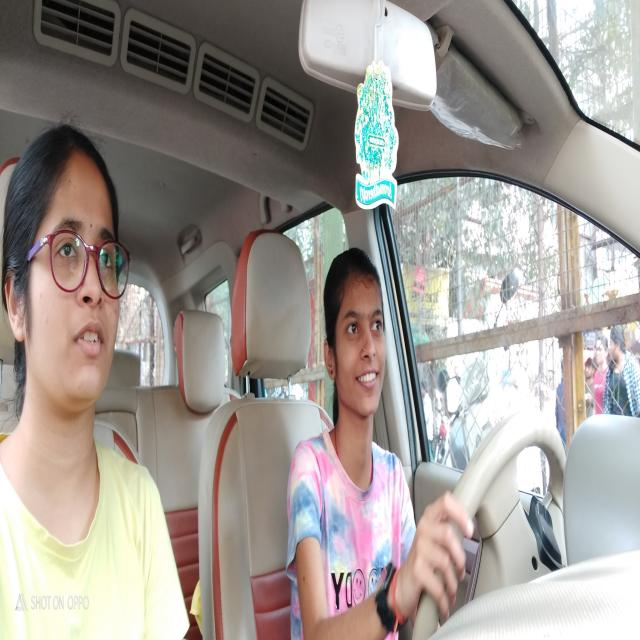person: (2, 119, 134, 421), (322, 243, 388, 427)
